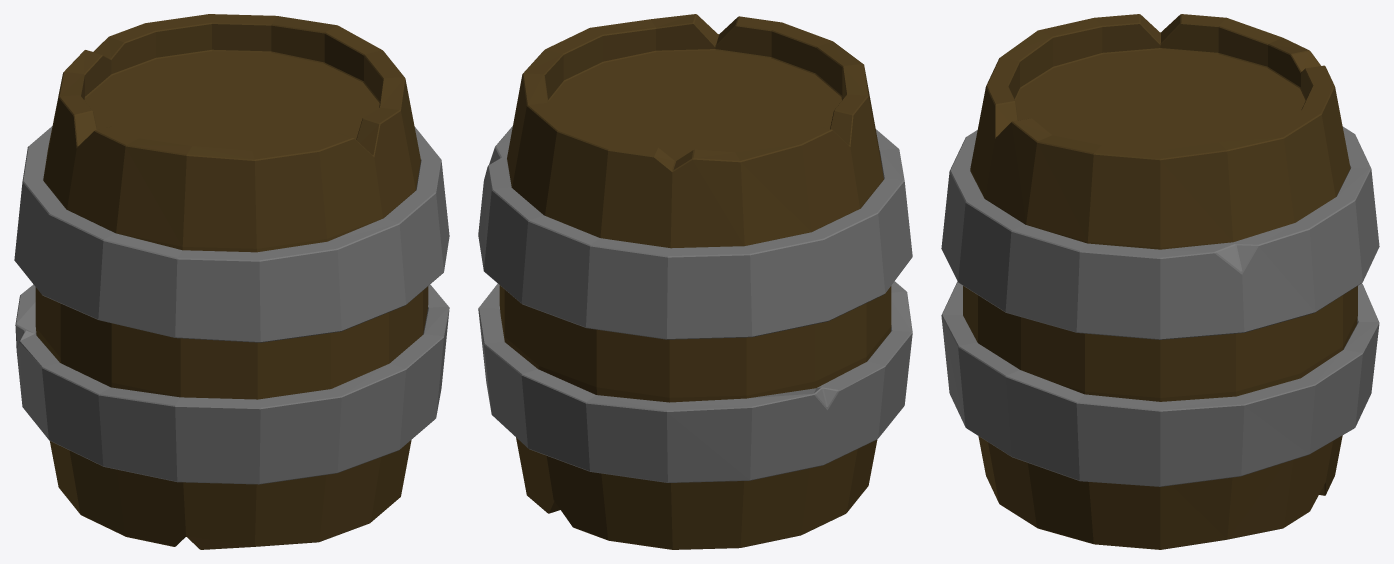
File: barrel.glb
3 views of the same model, side by side, from view 1: azimuth 30°, elevation 25°; view 2: azimuth 150°, elevation 25°; view 3: azimuth 270°, elevation 25° (orthographic).
Parts seen in each view (by area): view 1: Barrel; view 2: Barrel; view 3: Barrel.
Boxes of the visible parts, x1,y1,x2,y2 form: Barrel: (14,14,449,549); Barrel: (478,14,912,549); Barrel: (941,14,1379,549).
Bounding box in the file's own units: 0.7248 × 0.7197 × 0.7248.
